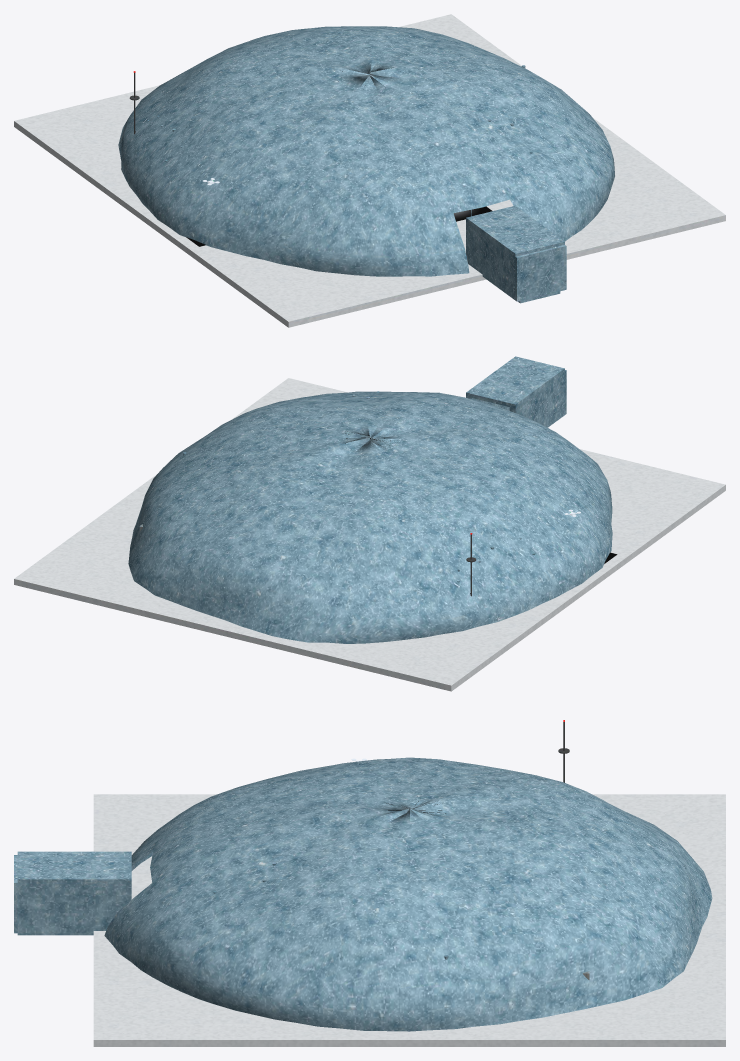
File: drill_camp.glb
The picture shows the model from 3 angles, top to bottom: view 1: azimuth 30°, elevation 25°; view 2: azimuth 150°, elevation 25°; view 3: azimuth 270°, elevation 25°; orthographic projection. The views are drawn at different scales.
Visible parts, largest first — view 1: camp_interior; view 2: camp_interior; view 3: camp_interior.
Part boxes in pixels (x1,y1,x2,y2): camp_interior: (14, 14, 725, 327); camp_interior: (14, 356, 725, 691); camp_interior: (14, 722, 725, 1046).
Size of the model in its own units: 46 by 10.25 by 56.3.
3 materials, 3 textured.
